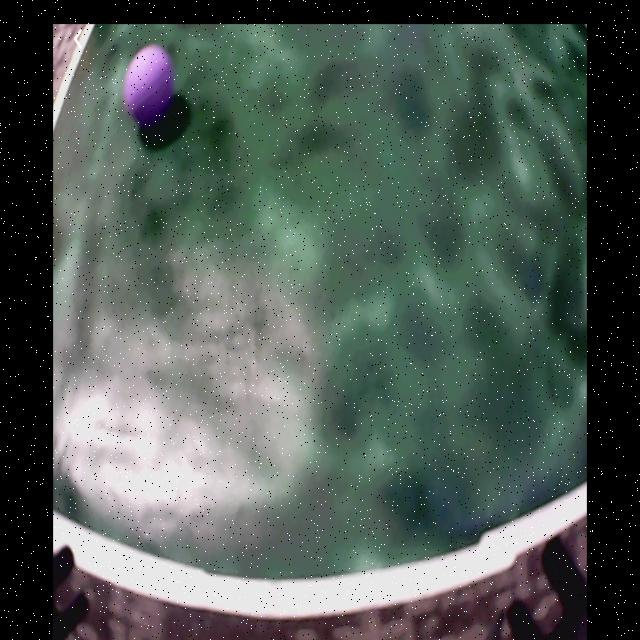ball: (125, 46, 172, 127)
